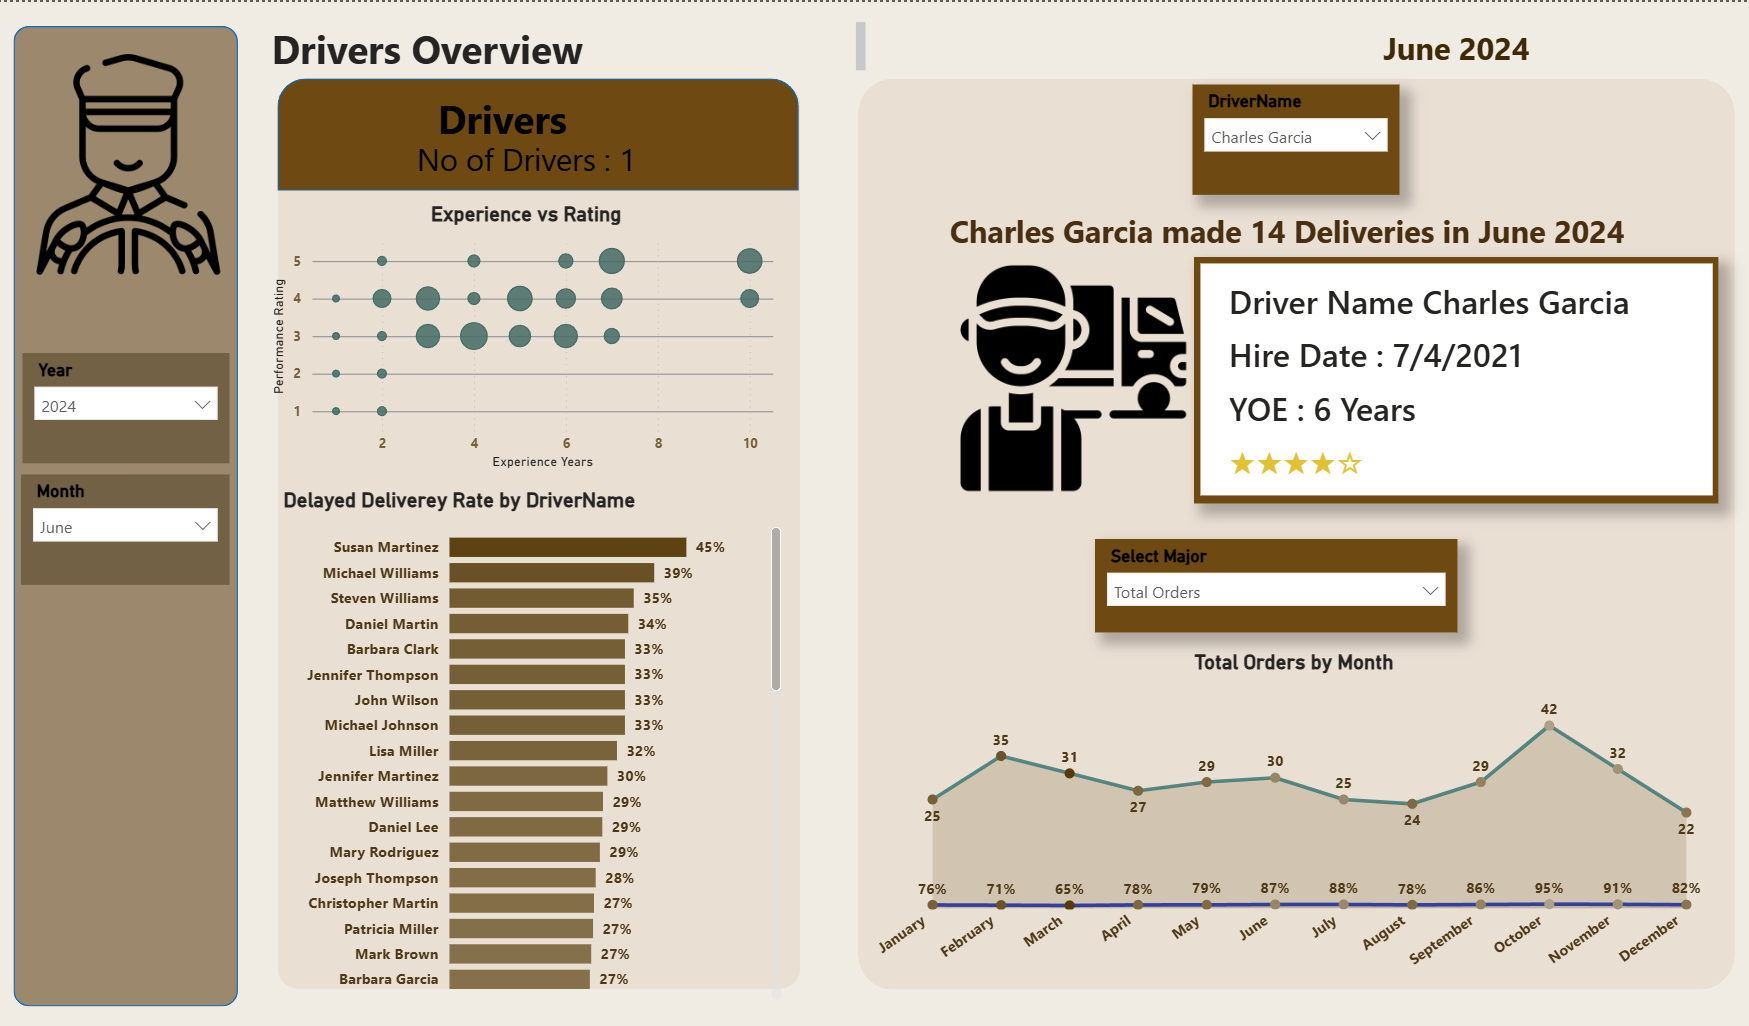

Layout of this report page (visuals, bound fields, positions):
{"tool":"powerbi","page":{"name":"Drivers Overview","canvas":[1450,850],"ordinal":1},"visuals":[{"type":"shape","box":[11.4,20,185.7,811.4],"z":0},{"type":"textbox","box":[220,11.4,501.4,51.4],"z":1000},{"type":"slicer","fields":{"Values":["Date Table.Year"]},"box":[18.6,290,171.4,91.4],"z":2000},{"type":"slicer","fields":{"Values":["Date Table.Month"]},"box":[17.1,391.4,172.9,91.4],"z":3000},{"type":"shape","box":[230,68.6,432.9,748.6],"z":4000},{"type":"shape","box":[230,62.9,431.4,92.9],"z":5000},{"type":"shape","box":[265.7,74.3,300,42.9],"z":6000},{"type":"cardVisual","fields":{"Data":["0rders.No of drivers"]},"box":[285.7,95.7,300,80],"z":7000},{"type":"scatterChart","title":"Experience vs Rating","fields":{"X":["Drivers.Experience Years"],"Y":["Drivers.Performance Rating"],"Size":["Sum(Drivers.Experience Years)1"]},"box":[220,165.7,431.4,225.7],"z":8000},{"type":"barChart","fields":{"Category":["Drivers.DriverName"],"Y":["0rders.Delayed Deliverey Rate"]},"box":[230,402.9,421.4,428.6],"z":9000},{"type":"cardVisual","fields":{"Data":["0rders.Year Month Title"]},"box":[1055.7,4.3,300,64.3],"z":10000},{"type":"shape","box":[710,62.9,725.7,754.3],"z":11000},{"type":"slicer","fields":{"Values":["Drivers.DriverName"]},"box":[987.1,68.6,171.4,91.4],"z":12000},{"type":"cardVisual","fields":{"Data":["0rders.Driver Title"]},"box":[735.7,155.7,658.6,75.7],"z":13000},{"type":"cardVisual","fields":{"Data":["Drivers.Driver Name Title","Drivers.Hire Date Title","Drivers.YOF","Drivers.Star Rating ."]},"box":[988.6,211.4,434.3,204.3],"z":14000},{"type":"areaChart","title":"Total Orders  by Month","fields":{"Category":["Date Table.Month"],"Y":["0rders.Total Orders","0rders.On Time Delivery Rate"]},"box":[718.6,535.7,704.3,281.4],"z":15000},{"type":"slicer","fields":{"Values":["Select Major.Select Major"]},"box":[905.7,444.3,300,77.1],"z":16000},{"type":"image","box":[788.6,180,200,262.9],"z":17000},{"type":"image","box":[31,31,182,210],"z":18000}]}

Visuals, with their boxes in screenshot pixels (x1, y1, x2, y2), scaled from the page's 1450x850 canvas onto the 1749x1026 screenshot:
shape: l=14, t=24, r=238, b=1004
textbox: l=265, t=14, r=870, b=76
slicer - Date Table.Year: l=22, t=350, r=229, b=460
slicer - Date Table.Month: l=21, t=472, r=229, b=583
shape: l=277, t=83, r=800, b=986
shape: l=277, t=76, r=798, b=188
shape: l=320, t=90, r=682, b=141
cardVisual - 0rders.No of drivers: l=345, t=116, r=706, b=212
"Experience vs Rating" scatterChart: l=265, t=200, r=786, b=472
barChart - Drivers.DriverName x 0rders.Delayed Deliverey Rate: l=277, t=486, r=786, b=1004
cardVisual - 0rders.Year Month Title: l=1273, t=5, r=1635, b=83
shape: l=856, t=76, r=1732, b=986
slicer - Drivers.DriverName: l=1191, t=83, r=1397, b=193
cardVisual - 0rders.Driver Title: l=887, t=188, r=1682, b=279
cardVisual - Drivers.Driver Name Title x Drivers.Hire Date Title: l=1192, t=255, r=1716, b=502
"Total Orders  by Month" areaChart: l=867, t=647, r=1716, b=986
slicer - Select Major.Select Major: l=1092, t=536, r=1454, b=629
image: l=951, t=217, r=1192, b=535
image: l=37, t=37, r=257, b=291
